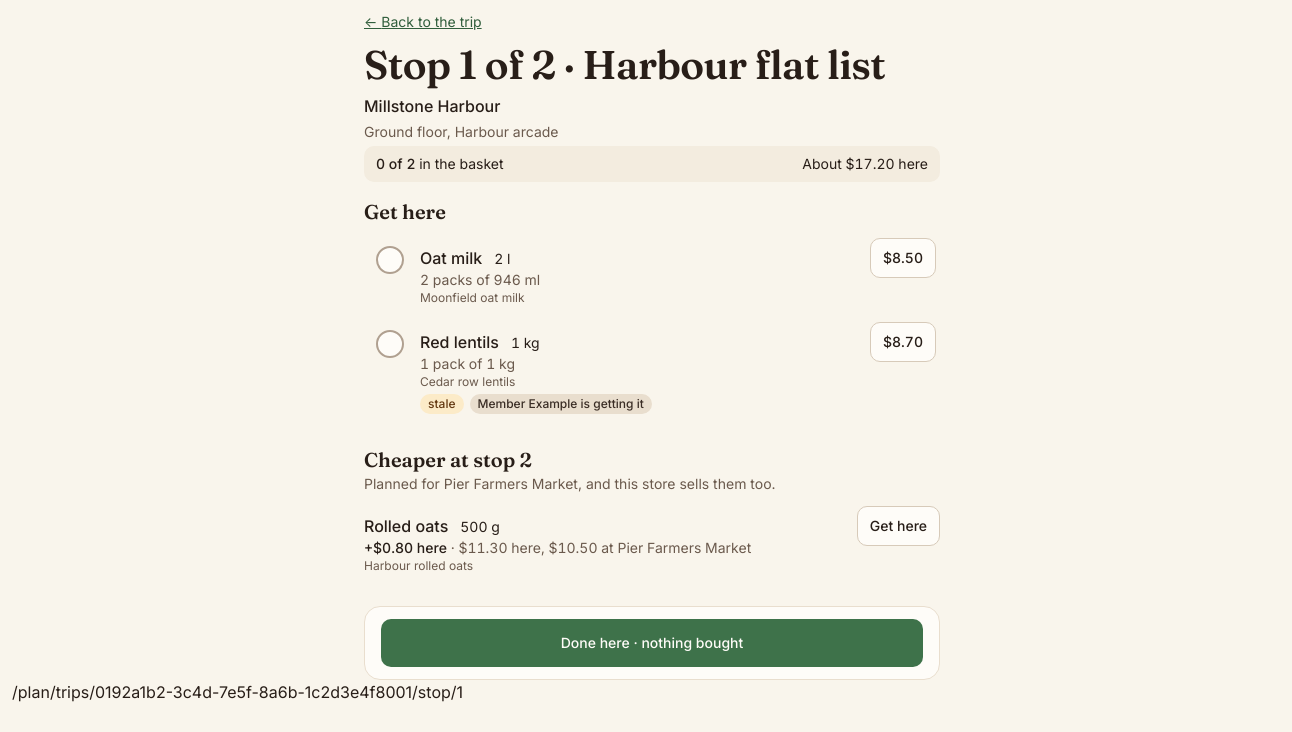
Test: Cheaper at stop 2 (UI-8.17) › says Not sold here on a 422, inline, and offers no second Get here
The width and height of the screenshot is (1292, 732).
Click the button with aria-label "Get Rolled oats here".
click(898, 526)  # box [857,506,940,546]
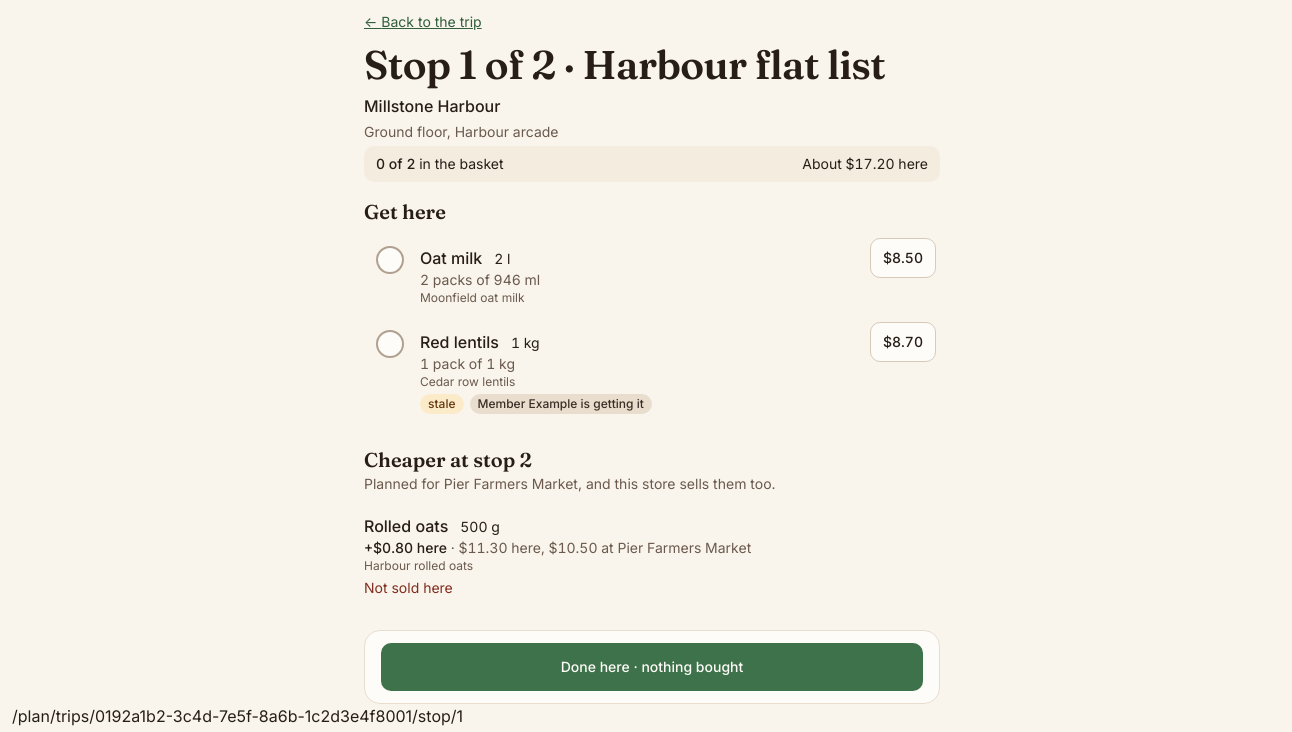
Expected: the text "Not sold here" is shown, [364,579,453,596]
